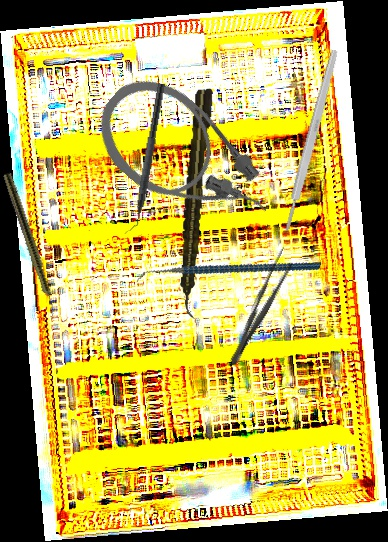Cannula: (79, 59, 289, 260)
Chopper: (135, 211, 322, 335), (123, 81, 165, 237)
Dressing Forceps: (223, 245, 298, 371)
Handpiece: (173, 85, 216, 320), (0, 171, 62, 322)
Scalpel Handle: (280, 48, 341, 233)
